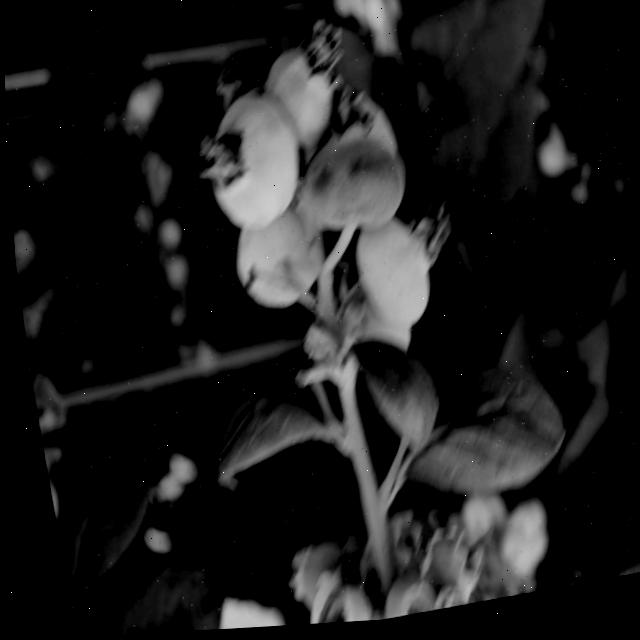RipeBlueBerry: (286, 114, 415, 246)
UnripeBlueBerry: (185, 81, 313, 243), (338, 209, 441, 341)
